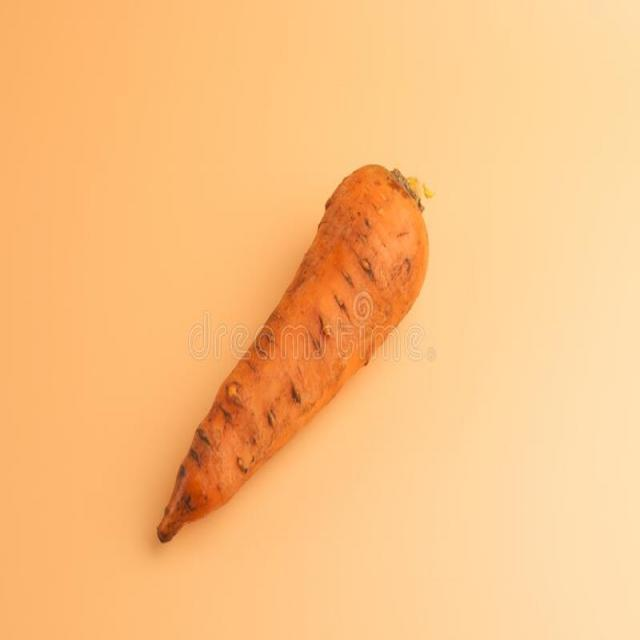Carrot: (158, 164, 438, 546)
